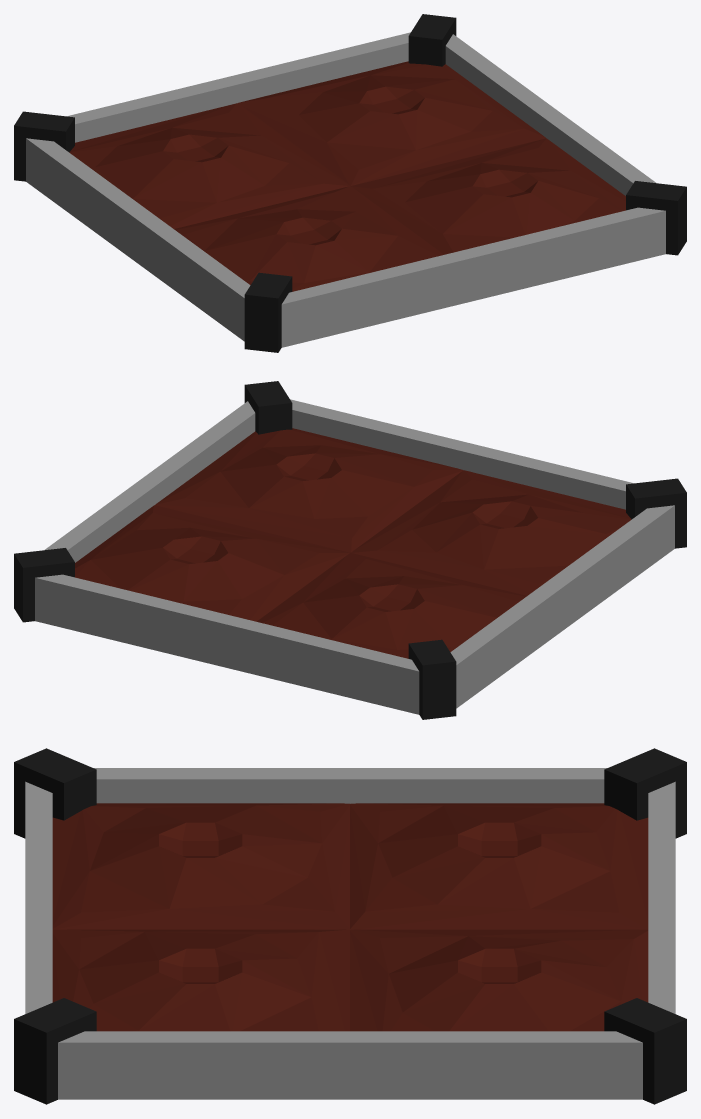
The model's file is obj_plot_4.FBX.
3 renders of one model, top to bottom at view 1: azimuth 30°, elevation 25°; view 2: azimuth 150°, elevation 25°; view 3: azimuth 270°, elevation 25°, orthographic. The views are drawn at different scales.
Parts seen in each view (by area): view 1: obj_plot_4, obj_plot_4_soil_4, obj_plot_4_soil_3, obj_plot_4_soil_2, obj_plot_4_soil_1; view 2: obj_plot_4, obj_plot_4_soil_2, obj_plot_4_soil_1, obj_plot_4_soil_4, obj_plot_4_soil_3; view 3: obj_plot_4, obj_plot_4_soil_3, obj_plot_4_soil_1, obj_plot_4_soil_4, obj_plot_4_soil_2.
Boxes of the visible parts, x1,y1,x2,y2 form: obj_plot_4: (14, 14, 686, 352); obj_plot_4_soil_4: (238, 61, 545, 185); obj_plot_4_soil_3: (69, 103, 349, 228); obj_plot_4_soil_2: (351, 138, 625, 254); obj_plot_4_soil_1: (174, 186, 443, 291); obj_plot_4: (14, 381, 686, 719); obj_plot_4_soil_2: (155, 428, 463, 552); obj_plot_4_soil_1: (350, 470, 631, 595); obj_plot_4_soil_4: (75, 505, 349, 621); obj_plot_4_soil_3: (256, 553, 526, 658); obj_plot_4: (14, 748, 686, 1104); obj_plot_4_soil_3: (350, 803, 648, 929); obj_plot_4_soil_1: (52, 803, 349, 929); obj_plot_4_soil_4: (350, 929, 648, 1031); obj_plot_4_soil_2: (52, 929, 349, 1031).
Size of the model in its own units: 20.71 by 2.44 by 20.71.
